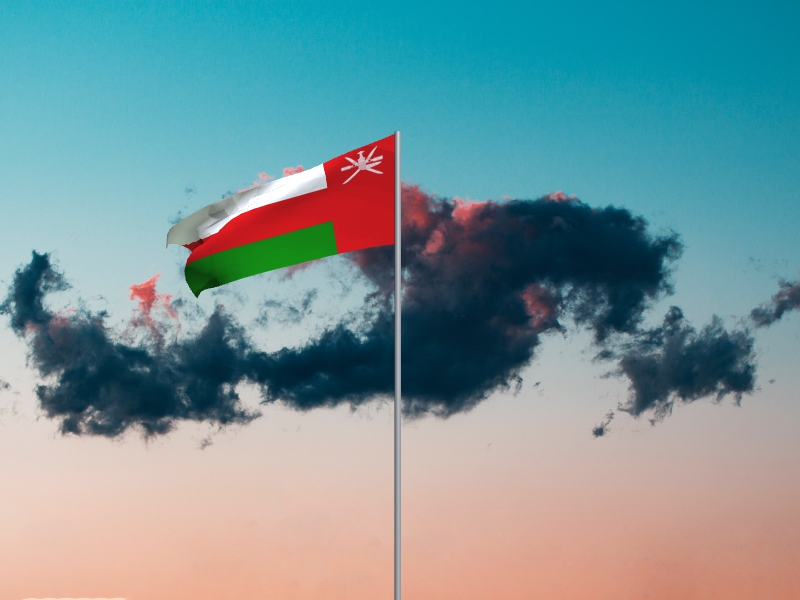om: (166, 135, 395, 299)
